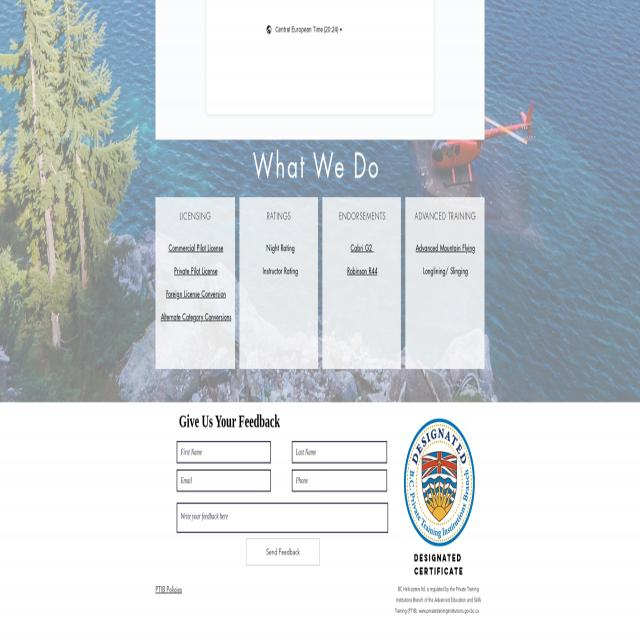button: (404, 418, 474, 546), (246, 538, 320, 566)
field: (177, 504, 388, 534), (292, 441, 387, 464), (292, 469, 387, 492), (177, 441, 271, 464), (177, 469, 271, 492)
